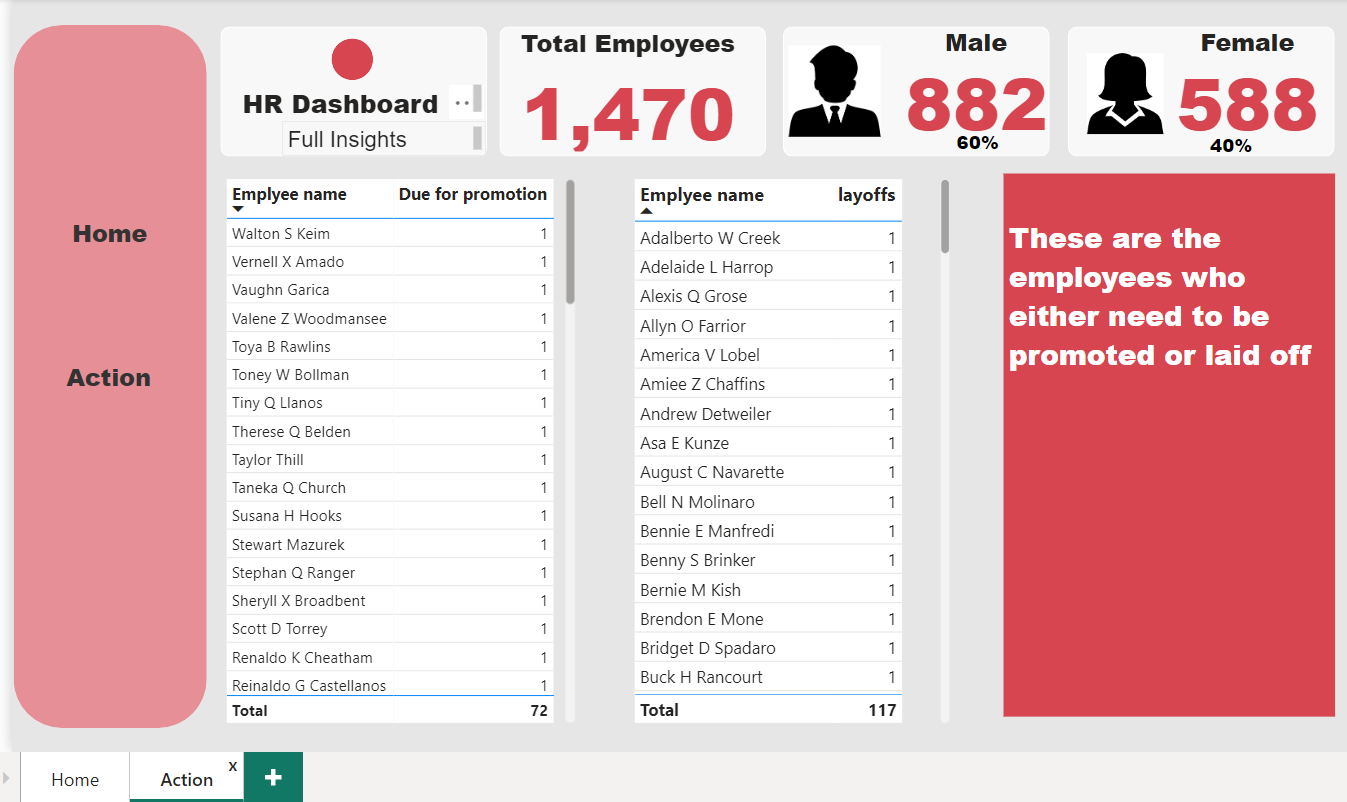

The dashboard page shown, as its layout file describes it:
{"tool":"powerbi","page":{"name":"Action","canvas":[1280,720],"ordinal":1},"visuals":[{"type":"shape","box":[198.8,27,254.5,124.1],"z":0},{"type":"shape","box":[466,27,254.5,124.1],"z":1000},{"type":"shape","box":[736.5,27,254.5,124.1],"z":2000},{"type":"shape","box":[1008.4,27,254.5,124.1],"z":3000},{"type":"textbox","box":[257.7,117.7,195.6,33.4],"z":4000},{"type":"shape","box":[305.4,38.2,39.8,39.8],"z":5000},{"type":"card","title":"Total Employees","fields":{"Values":["All Measures.Total Emp"]},"box":[470.8,27,233.8,124.1],"z":6000},{"type":"textbox","box":[198.8,77.9,254.5,39.8],"z":7000},{"type":"card","title":"Male","fields":{"Values":["All Measures.Male"]},"box":[823.9,25.4,194.1,108.2],"z":8000},{"type":"card","title":"Female","fields":{"Values":["All Measures.Female"]},"box":[1078.4,25.4,202,108.2],"z":9000},{"type":"card","fields":{"Values":["All Measures.% male"]},"box":[804.8,77.9,233.8,124.1],"z":10000},{"type":"card","fields":{"Values":["All Measures.% Female"]},"box":[1046.6,79.5,233.8,124.1],"z":11000},{"type":"image","box":[736.5,36.6,98.6,103.4],"z":12000},{"type":"image","box":[1018,47.7,89.1,87.5],"z":13000},{"type":"tableEx","fields":{"Values":["HR Analytics Data.HR employee data.Emplyee name","All Measures.Due for promotion"]},"box":[198.8,167,343.6,529.7],"z":14000},{"type":"tableEx","fields":{"Values":["HR Analytics Data.HR employee data.Emplyee name","All Measures.layoffs"]},"box":[588.5,167,311.8,529.7],"z":15000},{"type":"textbox","box":[946.4,167,316.5,518.5],"z":16000},{"type":"actionButton","box":[52.5,214.7,100.2,44.5],"z":17000},{"type":"actionButton","box":[53,337.7,99.9,45.4],"z":18000},{"type":"shape","box":[1.6,25.4,184.5,671.2],"z":19000},{"type":"actionButton","box":[42.9,202,100.2,44.5],"z":20000},{"type":"actionButton","box":[42.4,339.2,98.4,43.9],"z":21000}]}

Visuals, with their boxes on the page's 1280x720 design canvas (x1, y1, x2, y2). These are canvas units, not pixel positions in the 1347x802 screenshot, which may show the page scaled, cropped or inside an application window:
shape: {"left": 199, "top": 27, "right": 453, "bottom": 151}
shape: {"left": 466, "top": 27, "right": 720, "bottom": 151}
shape: {"left": 736, "top": 27, "right": 991, "bottom": 151}
shape: {"left": 1008, "top": 27, "right": 1263, "bottom": 151}
textbox: {"left": 258, "top": 118, "right": 453, "bottom": 151}
shape: {"left": 305, "top": 38, "right": 345, "bottom": 78}
"Total Employees" card: {"left": 471, "top": 27, "right": 705, "bottom": 151}
textbox: {"left": 199, "top": 78, "right": 453, "bottom": 118}
"Male" card: {"left": 824, "top": 25, "right": 1018, "bottom": 134}
"Female" card: {"left": 1078, "top": 25, "right": 1280, "bottom": 134}
card - All Measures.% male: {"left": 805, "top": 78, "right": 1039, "bottom": 202}
card - All Measures.% Female: {"left": 1047, "top": 80, "right": 1280, "bottom": 204}
image: {"left": 736, "top": 37, "right": 835, "bottom": 140}
image: {"left": 1018, "top": 48, "right": 1107, "bottom": 135}
tableEx - HR Analytics Data.HR employee data.Emplyee name x All Measures.Due for promotion: {"left": 199, "top": 167, "right": 542, "bottom": 697}
tableEx - HR Analytics Data.HR employee data.Emplyee name x All Measures.layoffs: {"left": 588, "top": 167, "right": 900, "bottom": 697}
textbox: {"left": 946, "top": 167, "right": 1263, "bottom": 686}
actionButton: {"left": 52, "top": 215, "right": 153, "bottom": 259}
actionButton: {"left": 53, "top": 338, "right": 153, "bottom": 383}
shape: {"left": 2, "top": 25, "right": 186, "bottom": 697}
actionButton: {"left": 43, "top": 202, "right": 143, "bottom": 246}
actionButton: {"left": 42, "top": 339, "right": 141, "bottom": 383}
